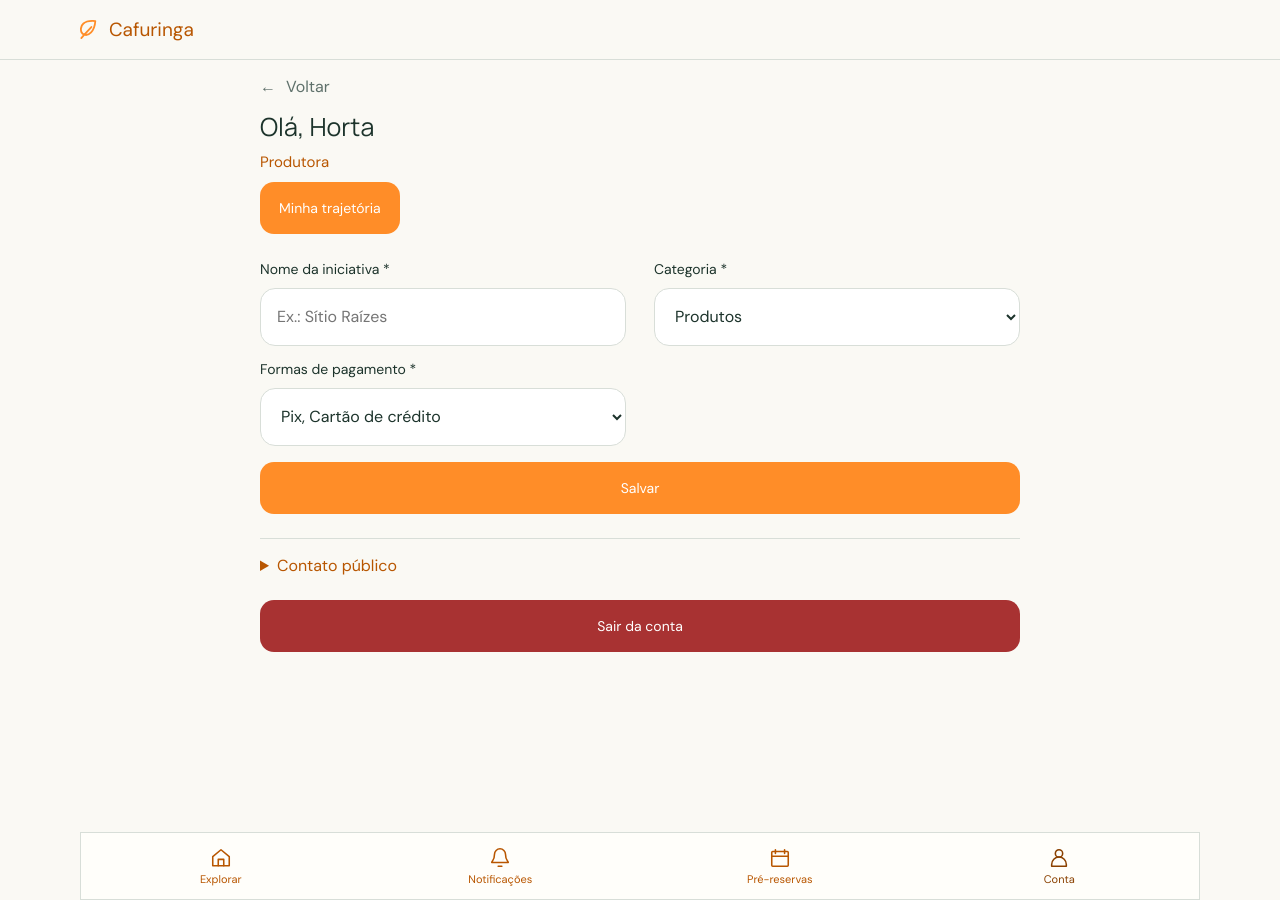
Test: HU12 — acesso, formulário e contrato HTTP › CA01: a conta do produtor oferece Minha trajetória e abre o formulário
Click the button "Minha trajetória": (330, 208) [260,182,400,234]
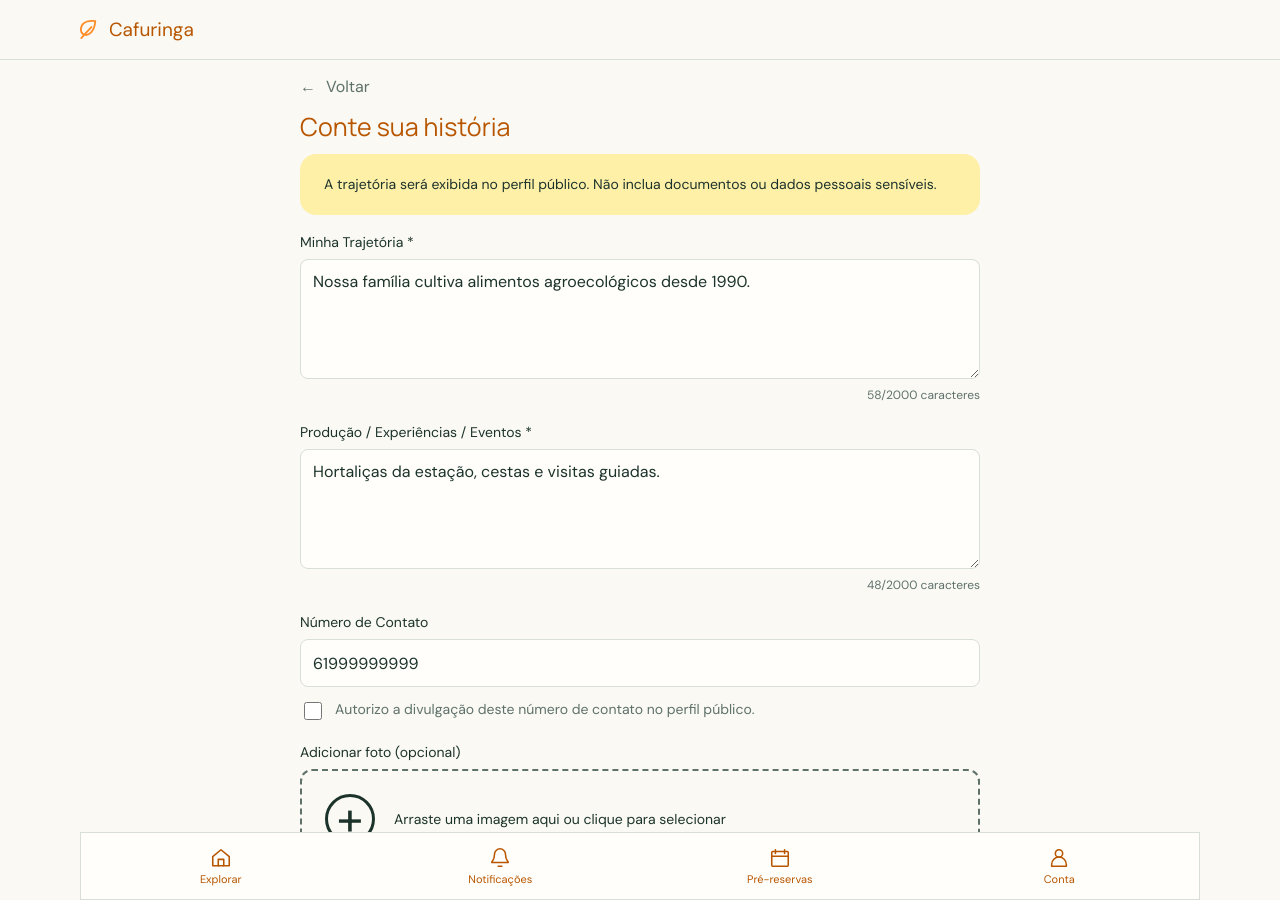
Expected: the heading "Conte sua história" is shown, [300,109,510,144]
